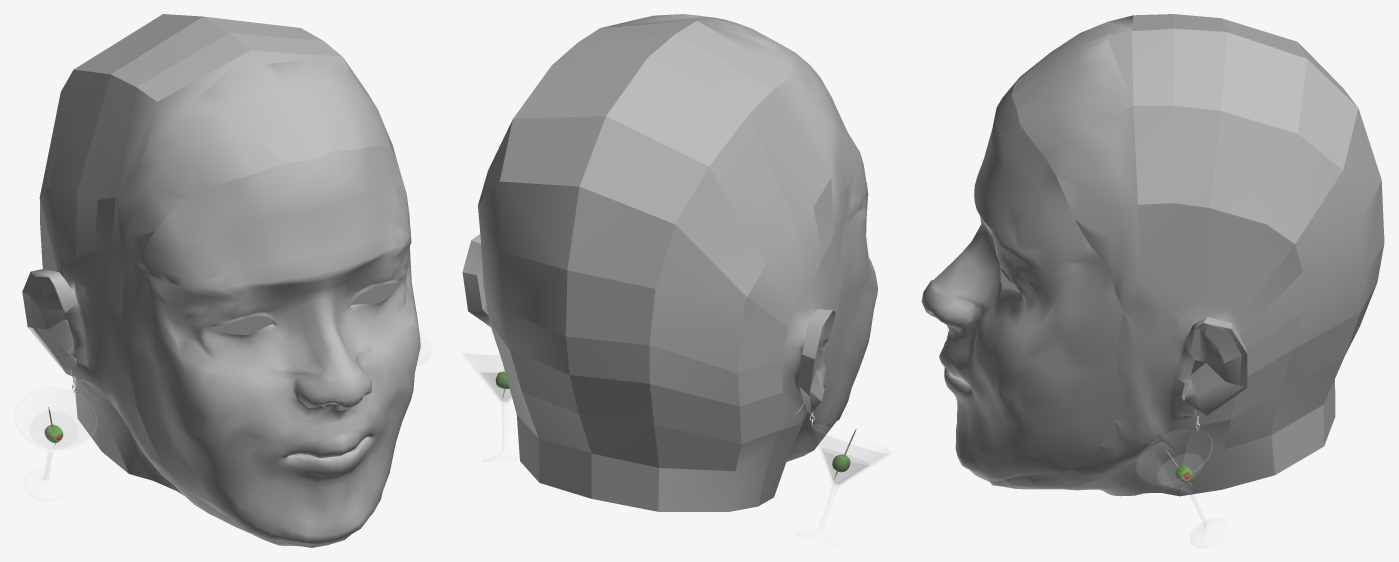
Rendered from earrings1.glb.
The picture shows the model from 3 angles, left to right: view 1: azimuth 30°, elevation 25°; view 2: azimuth 150°, elevation 25°; view 3: azimuth 270°, elevation 25°; orthographic projection. The views are drawn at different scales.
Parts seen in each view (by area): view 1: Occluder, drink.003; view 2: Occluder, glass.003, glass.001, drink.003; view 3: Occluder, drink.001.
Part boxes in pixels (bbox=[...]): Occluder: bbox=[22, 14, 420, 547]; drink.003: bbox=[30, 411, 78, 449]; Occluder: bbox=[462, 14, 877, 511]; glass.003: bbox=[813, 426, 890, 485]; glass.001: bbox=[463, 353, 510, 403]; drink.003: bbox=[822, 448, 869, 483]; Occluder: bbox=[921, 14, 1384, 496]; drink.001: bbox=[1157, 453, 1202, 491].
Bounding box in the file's own units: 0.2212 × 0.2347 × 0.2177.
5 materials, 4 textured.
